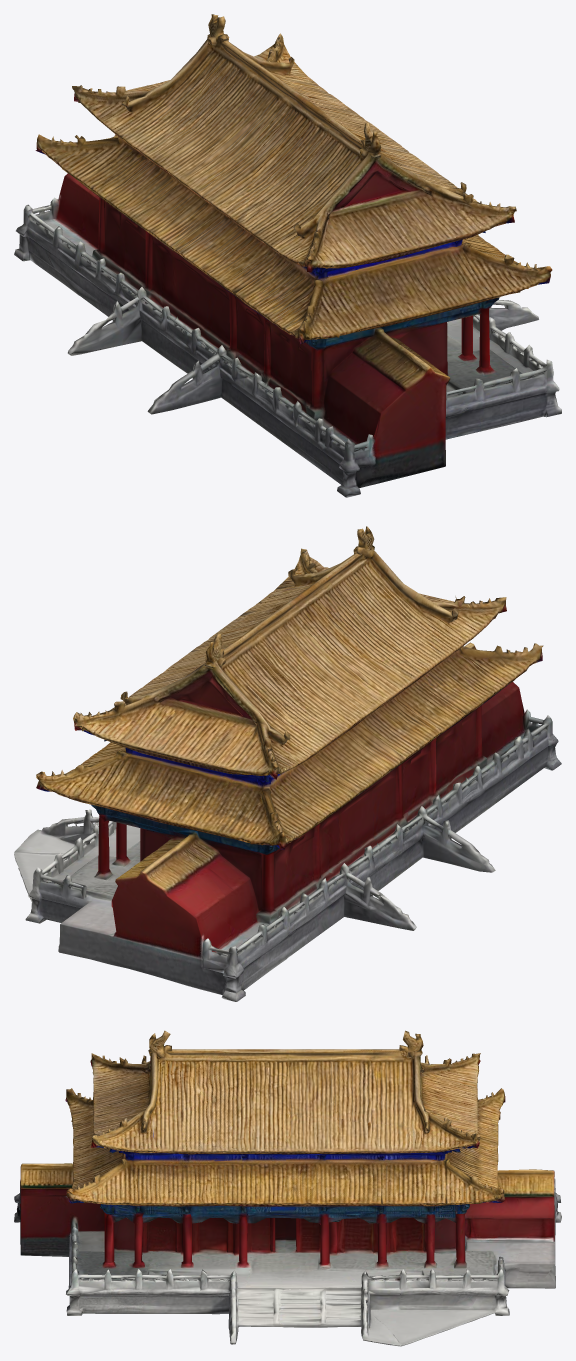
Rendered from palace-mid.glb.
3 views of the same model, one above another, from view 1: azimuth 30°, elevation 25°; view 2: azimuth 150°, elevation 25°; view 3: azimuth 270°, elevation 25° (orthographic). The views are drawn at different scales.
Size of the model in its own units: 0.6777 by 0.4658 by 0.9995.
1 material, 1 textured.
